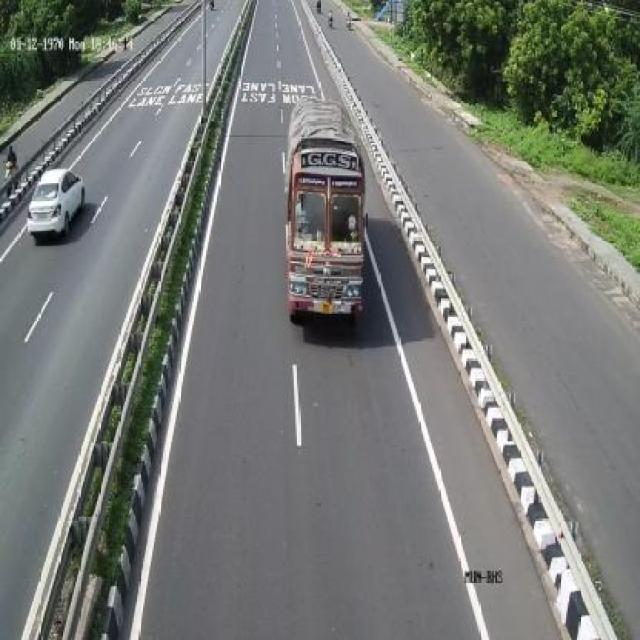car: (25, 165, 86, 237)
